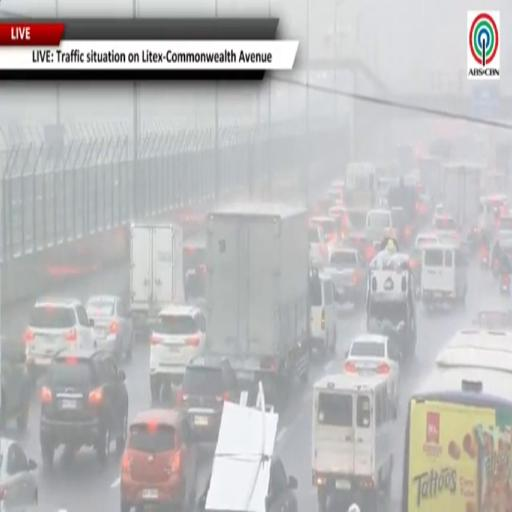bus: (401, 330, 511, 511)
car: (40, 349, 128, 467), (120, 409, 197, 511), (24, 298, 95, 378), (150, 304, 206, 402), (177, 357, 240, 441), (344, 333, 401, 406), (86, 295, 134, 361), (0, 338, 32, 431), (0, 438, 38, 510), (325, 247, 367, 305), (310, 272, 336, 357), (265, 456, 297, 511), (183, 236, 206, 302), (410, 233, 438, 287), (343, 232, 377, 263), (391, 207, 416, 245), (309, 217, 340, 245), (473, 310, 511, 331), (309, 226, 328, 266), (433, 215, 459, 243), (328, 205, 348, 239), (347, 207, 366, 232), (416, 195, 434, 221), (415, 233, 439, 248), (497, 216, 511, 238)
motorcycle: (500, 272, 510, 295), (480, 246, 489, 269), (492, 257, 500, 280)
truck: (205, 203, 310, 408), (130, 224, 184, 339), (442, 163, 482, 233), (418, 156, 442, 203)
